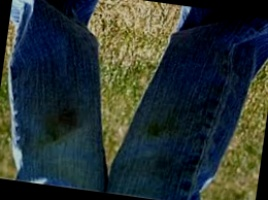earth: (44, 107, 78, 143), (143, 122, 170, 141)
